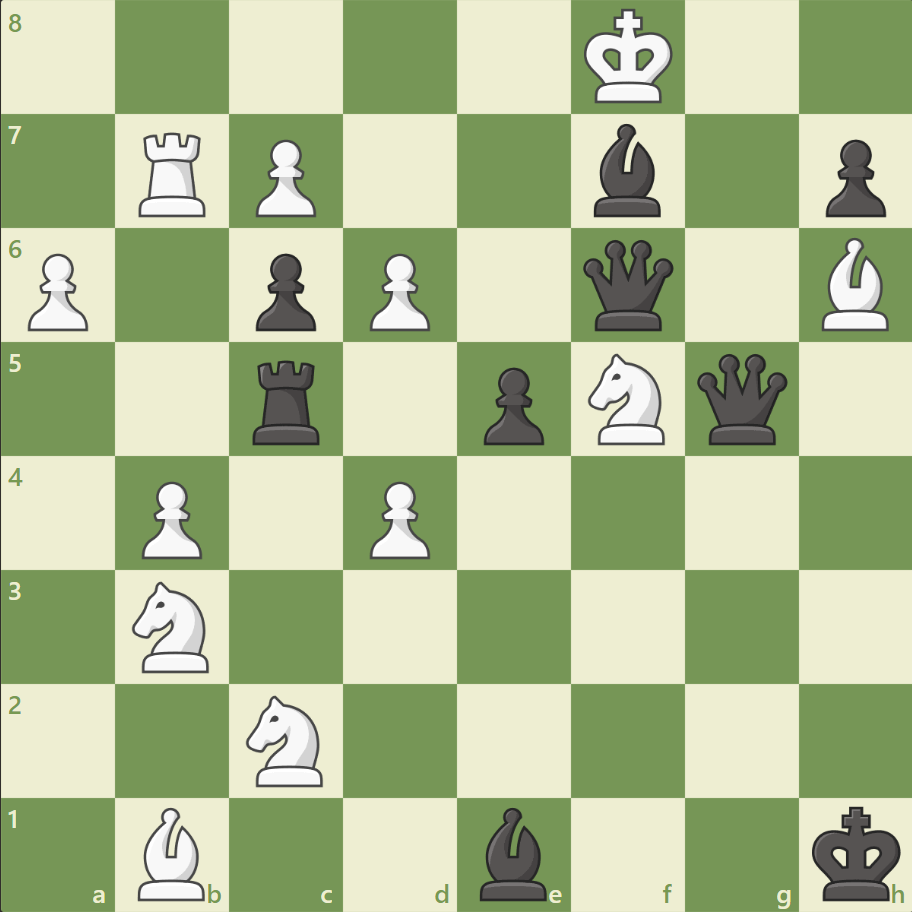B: (812, 233, 896, 336), (131, 801, 215, 904)
K: (579, 4, 679, 112)
N: (124, 575, 222, 677), (238, 688, 335, 791), (579, 348, 676, 450)
P: (247, 132, 322, 223), (20, 246, 95, 337), (133, 473, 208, 564), (361, 246, 435, 337), (361, 473, 435, 564)
R: (133, 125, 215, 222)
b: (471, 801, 555, 904), (585, 120, 669, 222)
k: (806, 798, 906, 906)
p: (247, 246, 322, 337), (474, 359, 549, 450), (815, 132, 889, 223)
q: (691, 349, 790, 449), (578, 236, 677, 335)
r: (246, 352, 329, 449)
